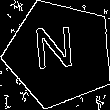N_S: (37, 27, 82, 81)
